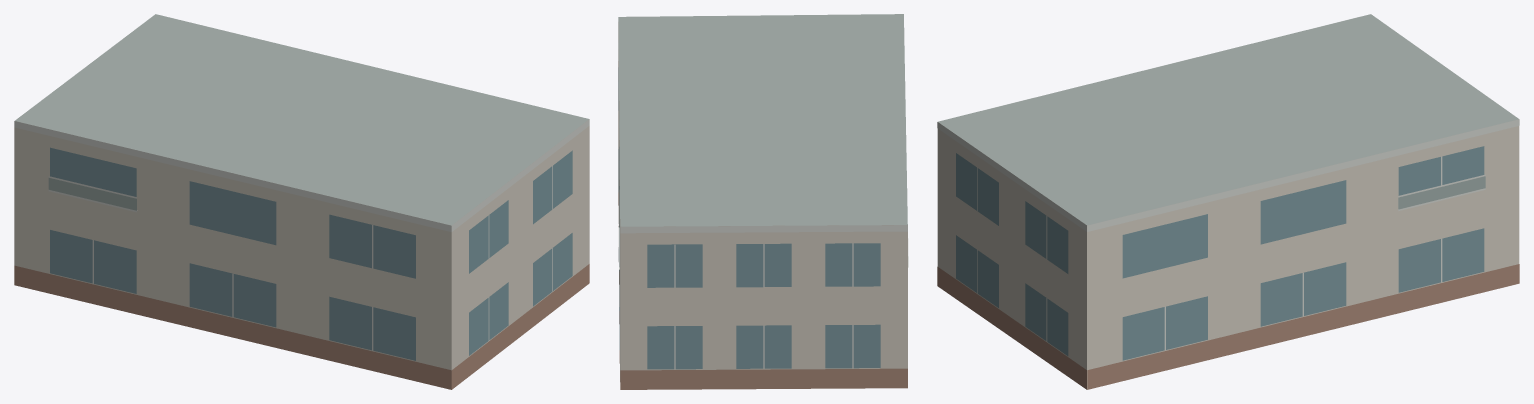
Rendered from survey-upis-32839539.glb.
3 views of the same model, side by side, from view 1: azimuth 30°, elevation 25°; view 2: azimuth 150°, elevation 25°; view 3: azimuth 270°, elevation 25° (orthographic).
Visible parts, largest first — view 1: survey-upis-32839539.tmp; view 2: survey-upis-32839539.tmp; view 3: survey-upis-32839539.tmp.
Part boxes in pixels (x1,y1,x2,y2): survey-upis-32839539.tmp: (14, 14, 589, 389); survey-upis-32839539.tmp: (618, 14, 908, 389); survey-upis-32839539.tmp: (937, 14, 1519, 389).
Size of the model in its own units: 16.84 by 6.1 by 19.58.
